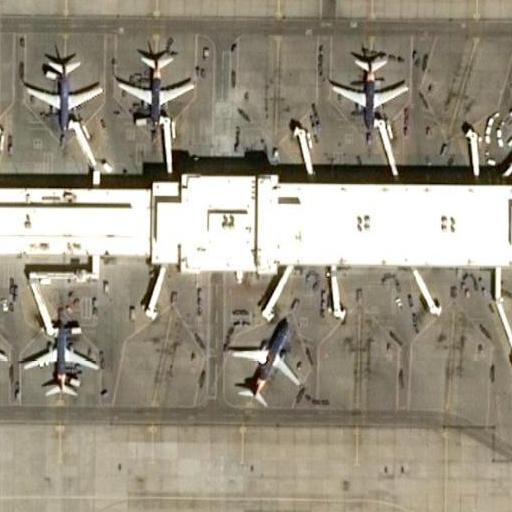Aircraft: (17, 37, 104, 139), (117, 40, 204, 139), (219, 314, 304, 405), (325, 42, 410, 129), (18, 314, 99, 397), (0, 313, 8, 399)
